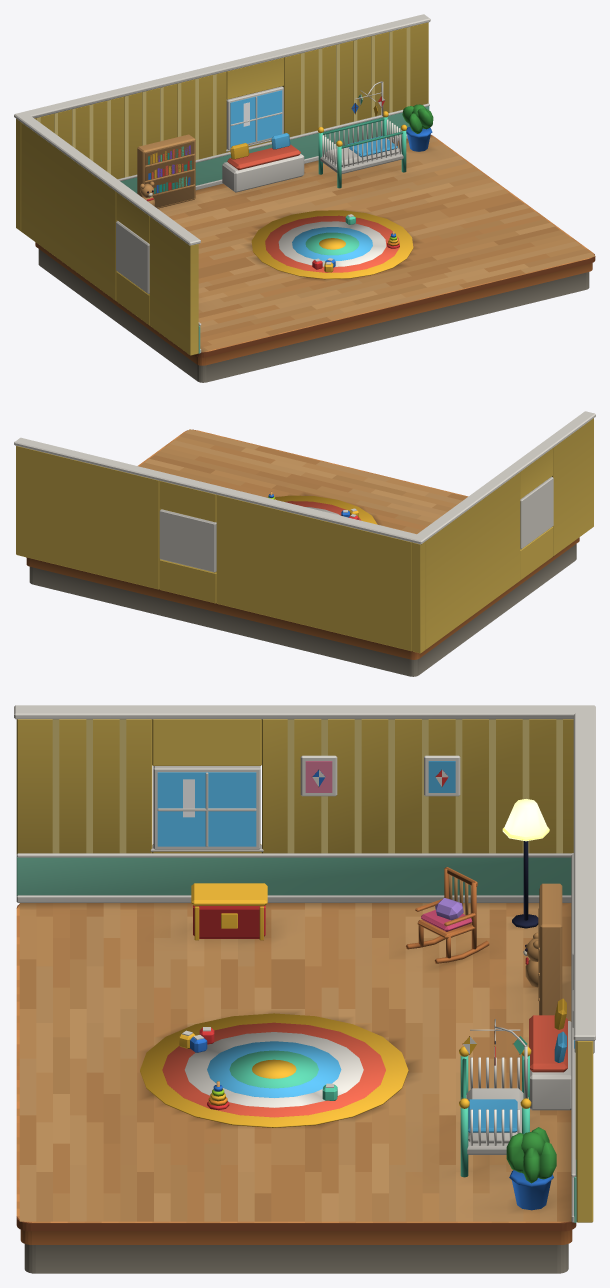
Rendered from nursery.glb.
The picture shows the model from 3 angles, top to bottom: view 1: azimuth 30°, elevation 25°; view 2: azimuth 150°, elevation 25°; view 3: azimuth 270°, elevation 25°; orthographic projection. The views are drawn at different scales.
Parts seen in each view (by area): view 1: nursery_Satin, nursery_Matte, nursery_Gloss; view 2: nursery_Satin, nursery_Matte; view 3: nursery_Satin, nursery_Matte, nursery_Gloss, nursery_Glow_warm.
Part boxes in pixels (left/top/right/bottom): nursery_Satin: left=14, top=14, right=595, bottom=382; nursery_Matte: left=194, top=135, right=595, bottom=357; nursery_Gloss: left=147, top=90, right=432, bottom=272; nursery_Satin: left=14, top=411, right=595, bottom=676; nursery_Matte: left=26, top=429, right=468, bottom=651; nursery_Satin: left=14, top=705, right=595, bottom=1273; nursery_Matte: left=16, top=904, right=576, bottom=1231; nursery_Gloss: left=157, top=772, right=574, bottom=1210; nursery_Glow_warm: left=502, top=799, right=549, bottom=841.
Bounding box in the file's own units: 14 × 4.78 × 10.4.
